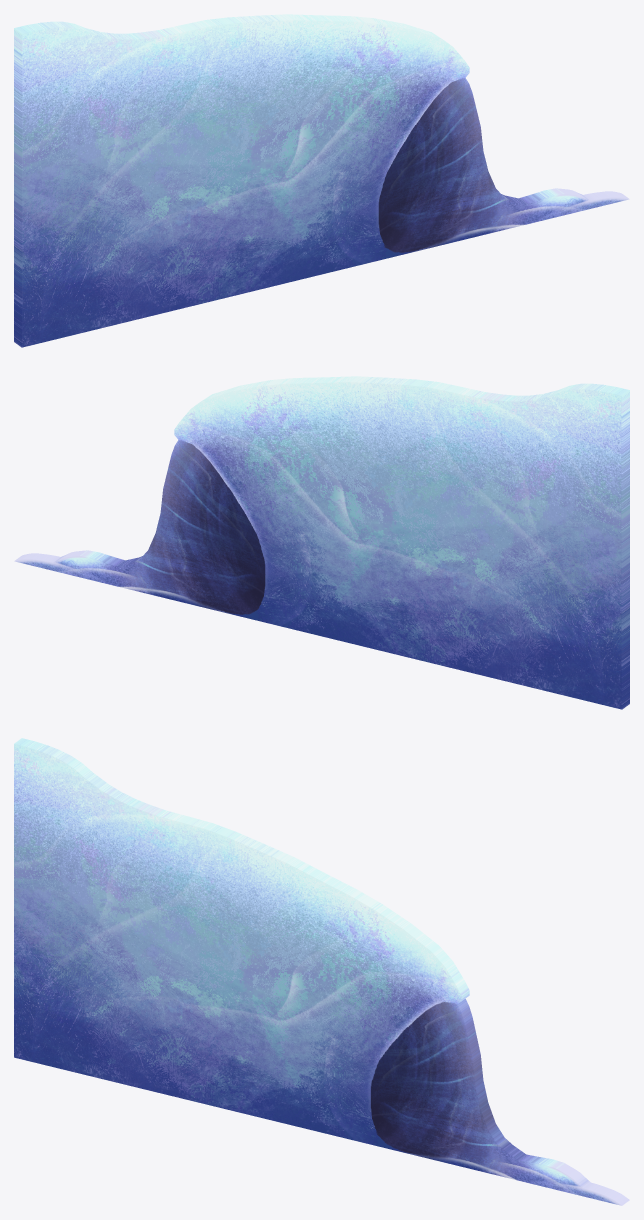
The model's file is bearden.fbx.
The picture shows the model from 3 angles, top to bottom: view 1: azimuth 30°, elevation 25°; view 2: azimuth 150°, elevation 25°; view 3: azimuth 330°, elevation 25°; orthographic projection.
Visible parts, largest first — view 1: bearden; view 2: bearden; view 3: bearden.
Part boxes in pixels (x1,y1,x2,y2): bearden: (14,14,629,347); bearden: (14,376,629,709); bearden: (14,738,629,1205).
Size of the model in its own units: 630 by 310 by 14.17.
